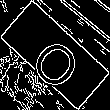O_NE: (23, 22, 87, 88)
